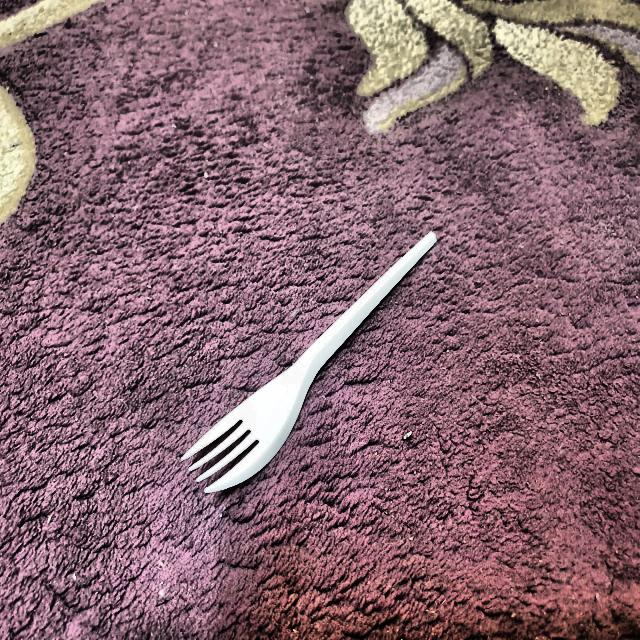plastic utensil: (179, 219, 450, 502)
